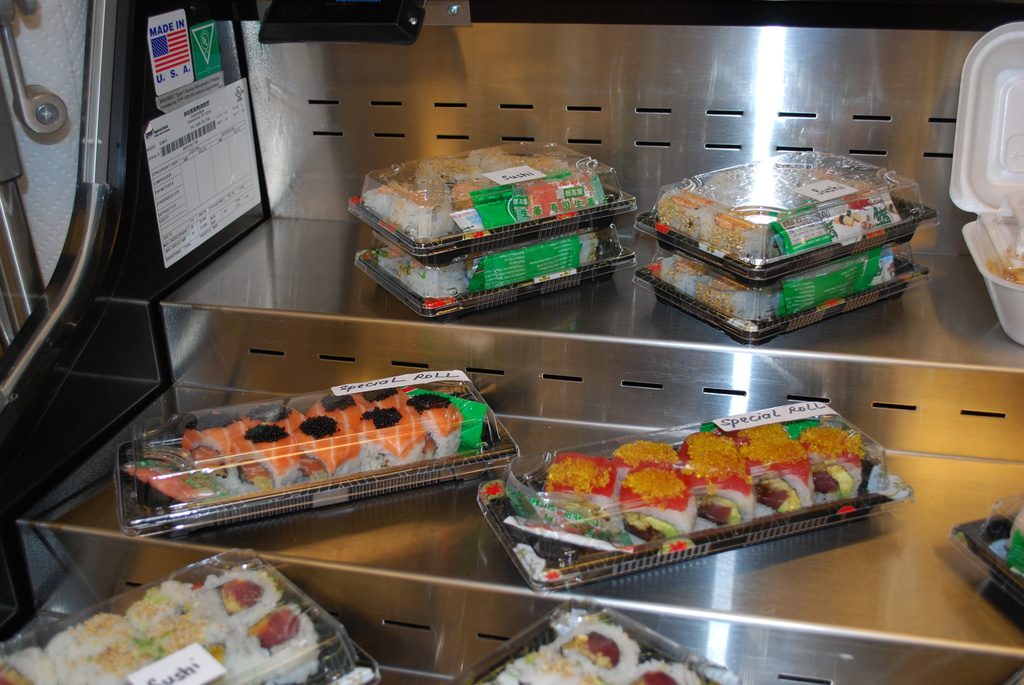sushi: (120, 387, 456, 510), (541, 423, 874, 544), (3, 563, 323, 684), (546, 619, 639, 681), (356, 408, 426, 468), (493, 654, 589, 684), (625, 659, 703, 684)
